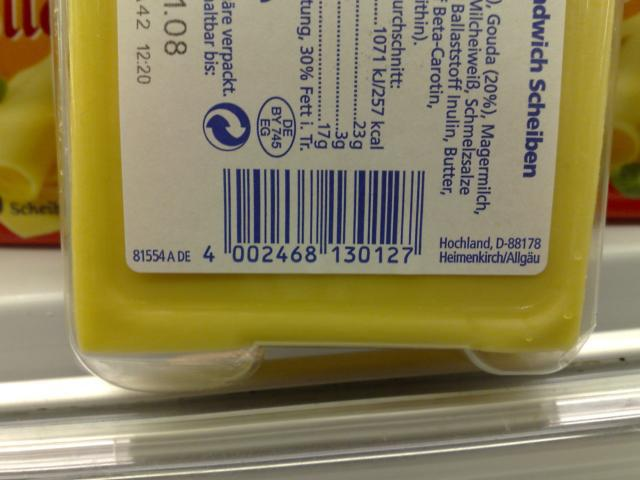Barkod: (220, 166, 425, 246)
